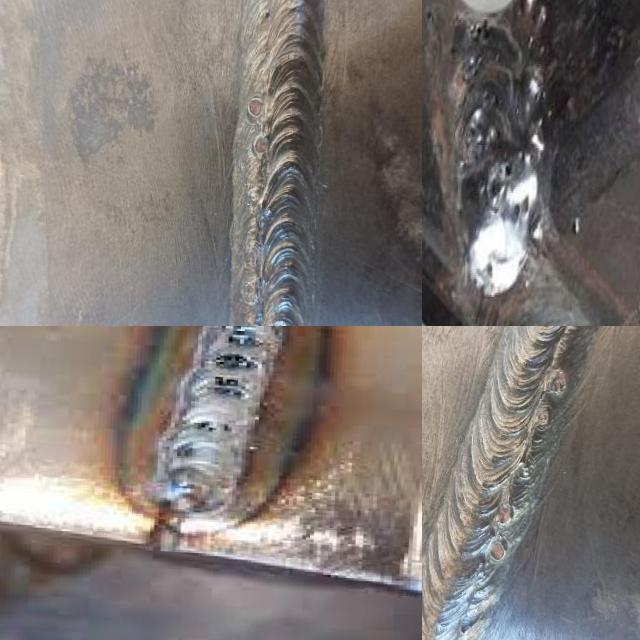defect: (481, 155, 516, 212), (213, 326, 272, 354), (207, 349, 261, 374), (210, 372, 252, 402), (509, 190, 533, 228), (191, 417, 233, 436), (245, 89, 265, 120), (548, 370, 570, 398), (243, 240, 263, 267), (536, 401, 554, 430), (254, 131, 271, 159), (244, 277, 263, 301), (490, 540, 507, 564), (520, 456, 535, 480), (499, 507, 515, 526), (260, 5, 273, 21), (567, 333, 574, 341)
